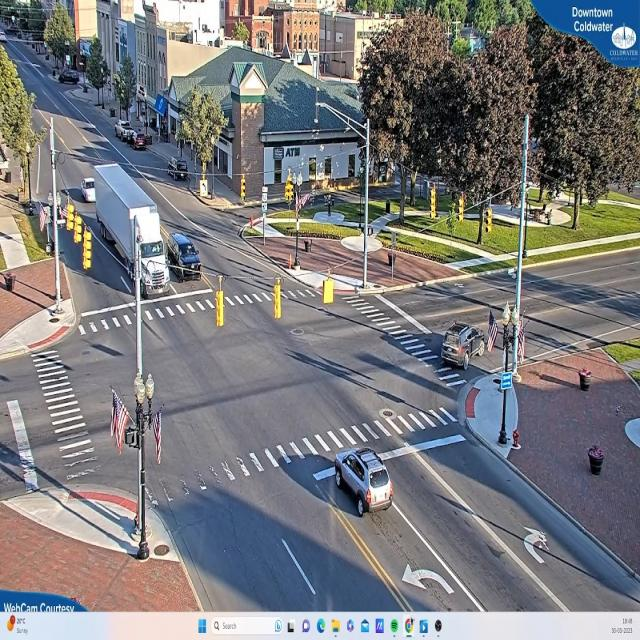car: (333, 448, 394, 518), (59, 70, 80, 83), (133, 134, 149, 150)
truck: (96, 148, 168, 313)
